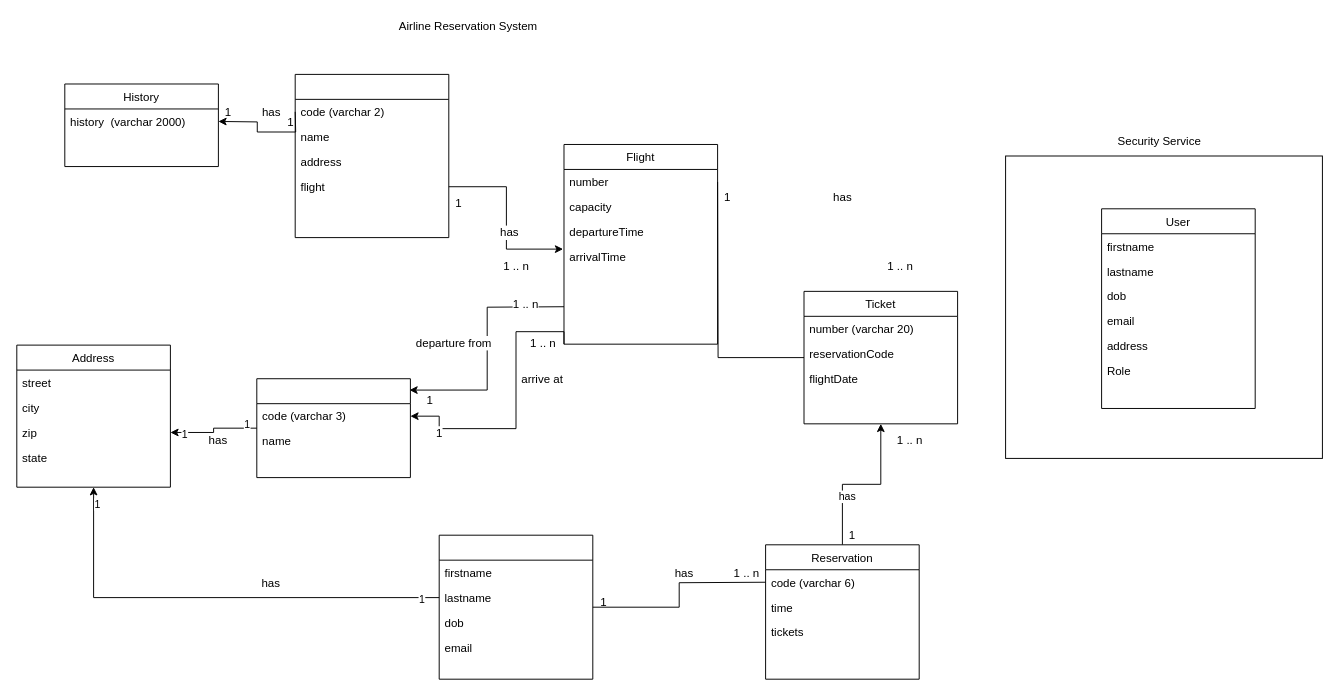
The diagram is 1339 pixels wide and 696 high, and some of its shapes have lost their labels. Each missing label, with the box of its shape:
Airline: (294, 73, 449, 238)
Airport: (256, 378, 410, 478)
Passenger: (438, 534, 593, 679)
